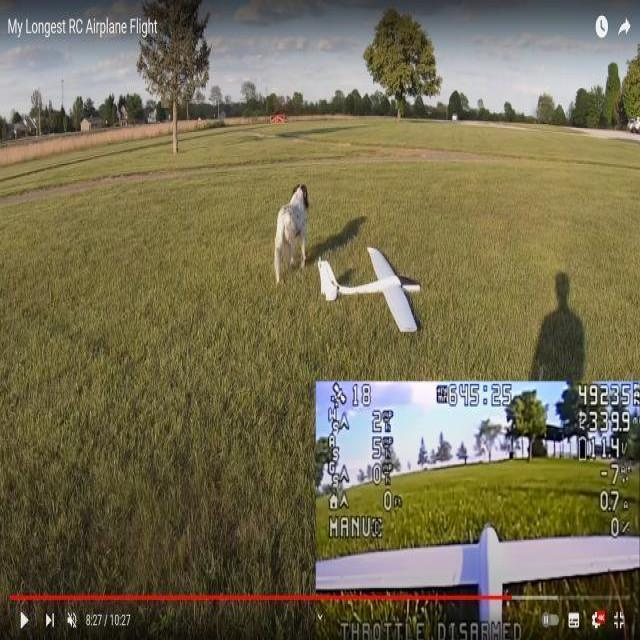iha: (344, 500, 624, 562), (350, 274, 411, 300)
